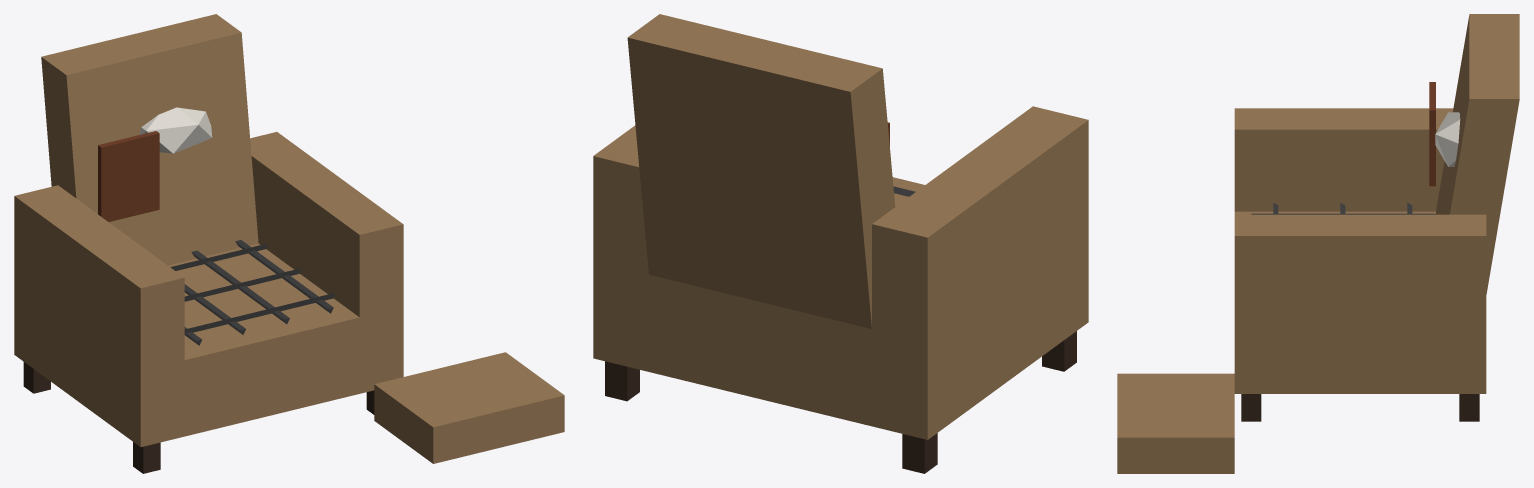
Rendered from armchair_dumped.glb.
3 renders of one model, left to right at view 1: azimuth 30°, elevation 25°; view 2: azimuth 150°, elevation 25°; view 3: azimuth 270°, elevation 25°, orthographic. The views are drawn at different scales.
Visible parts, largest first — view 1: armchair_dumped; view 2: armchair_dumped; view 3: armchair_dumped.
Boxes of the visible parts, x1,y1,x2,y2 form: armchair_dumped: [14, 14, 564, 473]; armchair_dumped: [593, 14, 1088, 473]; armchair_dumped: [1117, 14, 1519, 473].
Bounding box in the file's own units: 1.25 × 1 × 1.2.
Materials: 1 (1 with a texture image).
